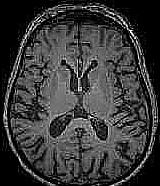Normal_Brain: (1, 3, 160, 186)
